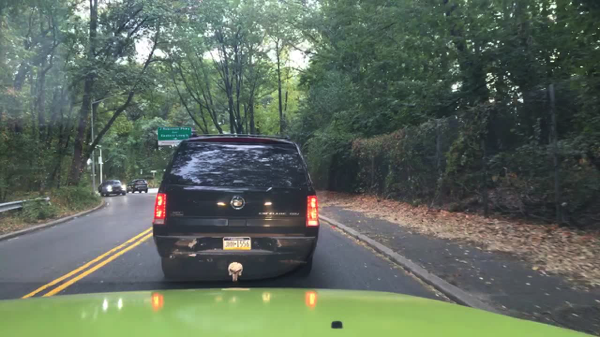car: (153, 132, 321, 289), (97, 179, 126, 197), (126, 178, 149, 194)
traffic sign: (157, 127, 194, 146), (87, 159, 93, 165), (98, 155, 101, 165)
